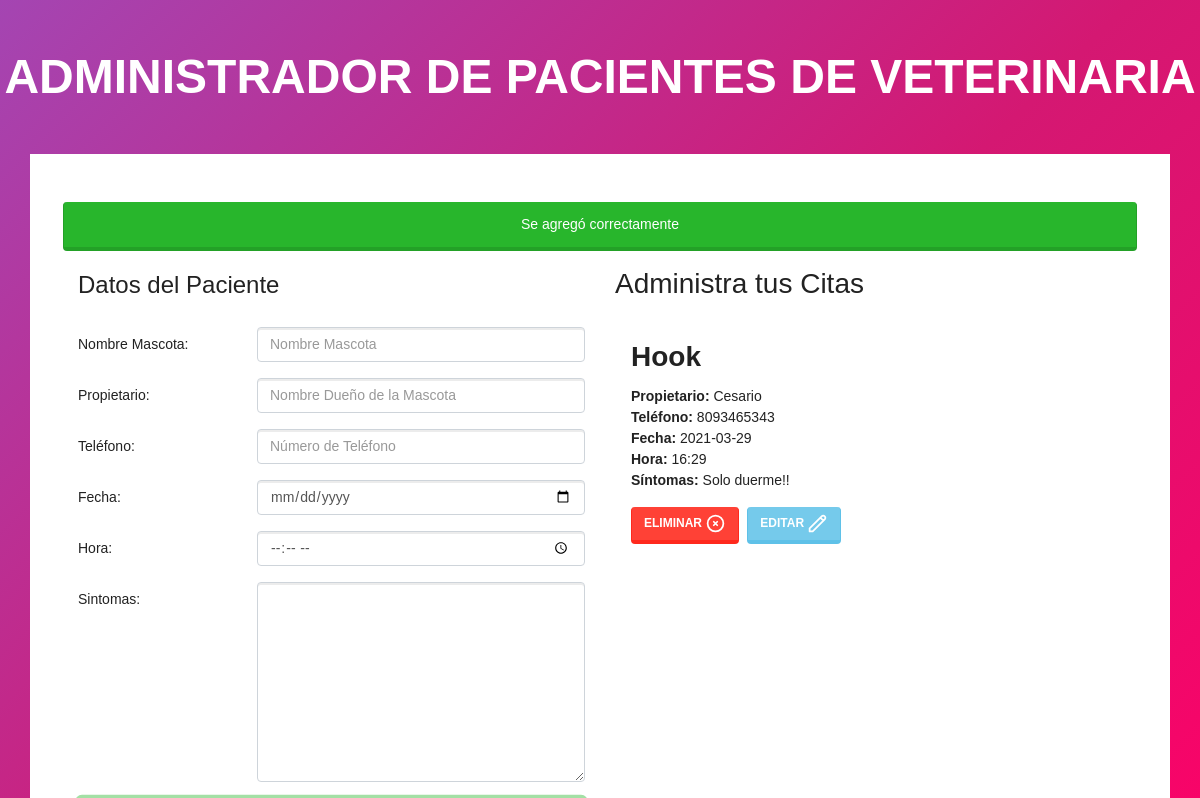
Test case: Llena los campos para una nueva cita y la edita › Edita la cita
This screenshot has width=1200, height=798.
Click the button with test id "btn-editar".
click(794, 526)  # box left=747, top=507, right=841, bottom=544
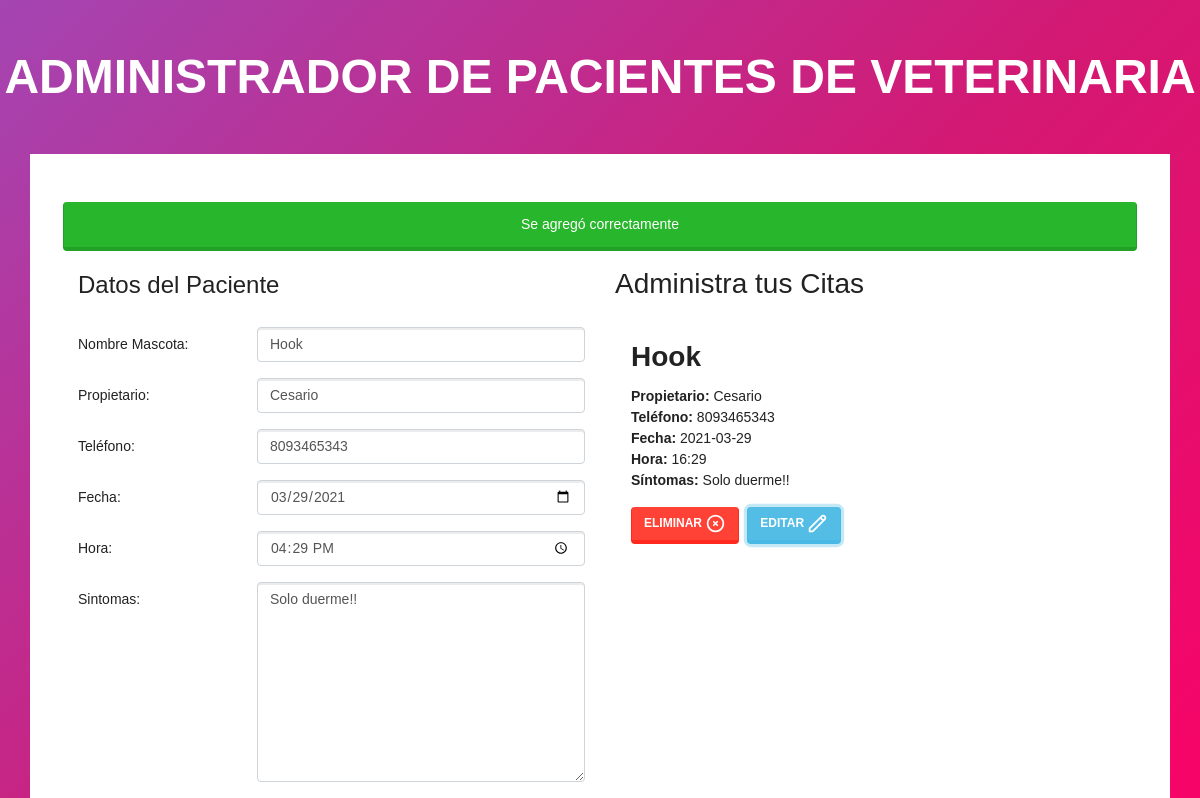
Replace the text in the field with test id "mascota-input" with "NUEVO HOOK" at (421, 345), box left=257, top=327, right=585, bottom=362
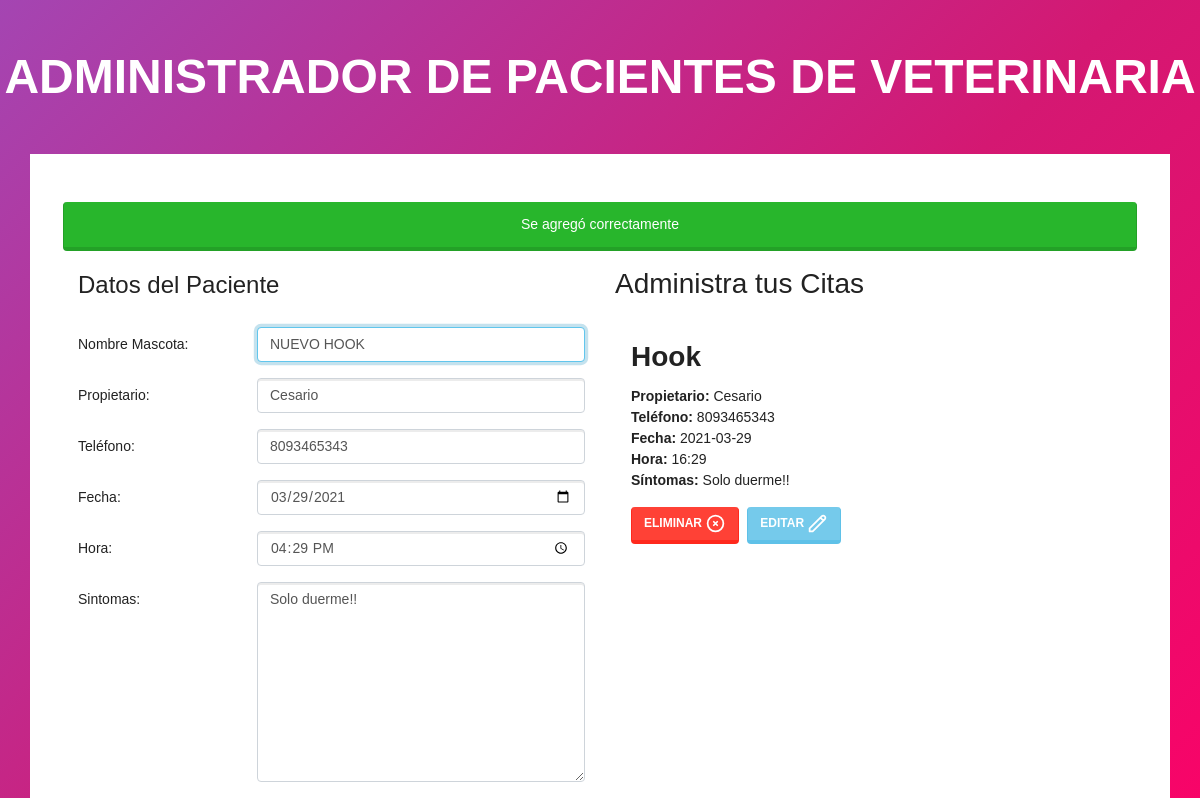
Scroll
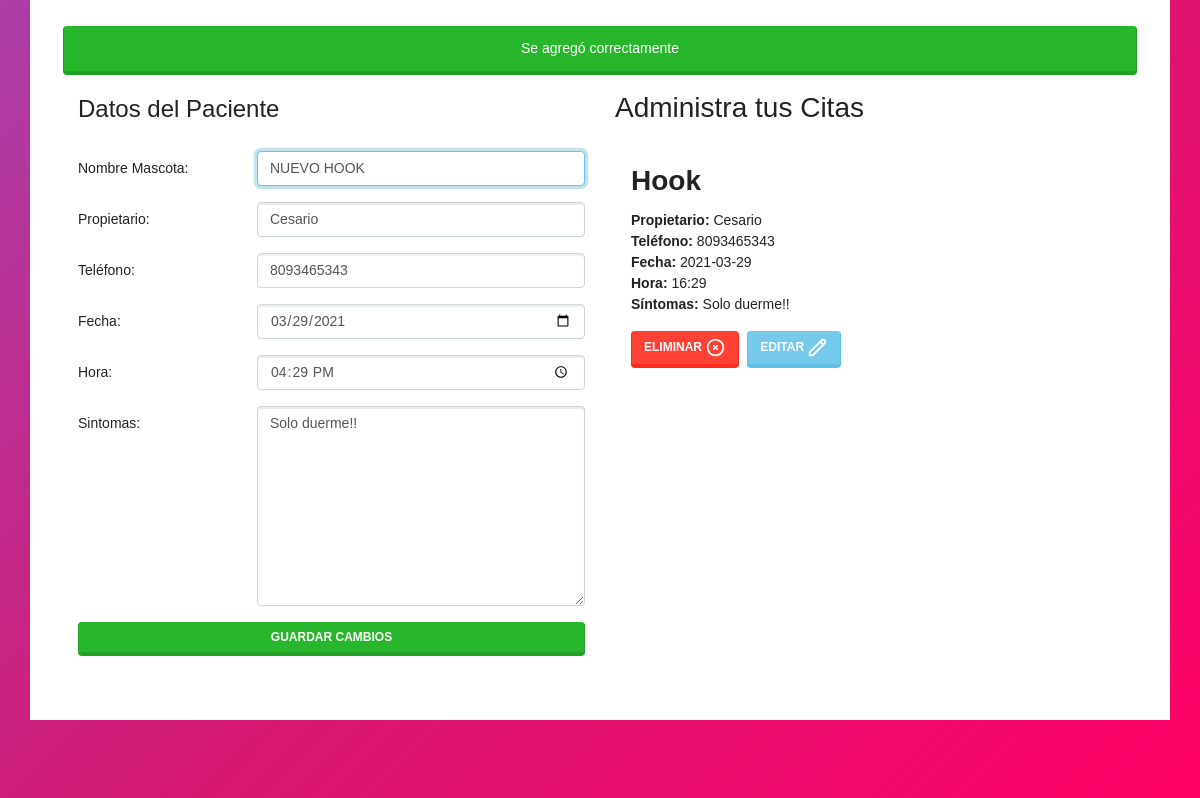
Click the button with test id "submit".
click(332, 639)  # box left=78, top=622, right=585, bottom=656
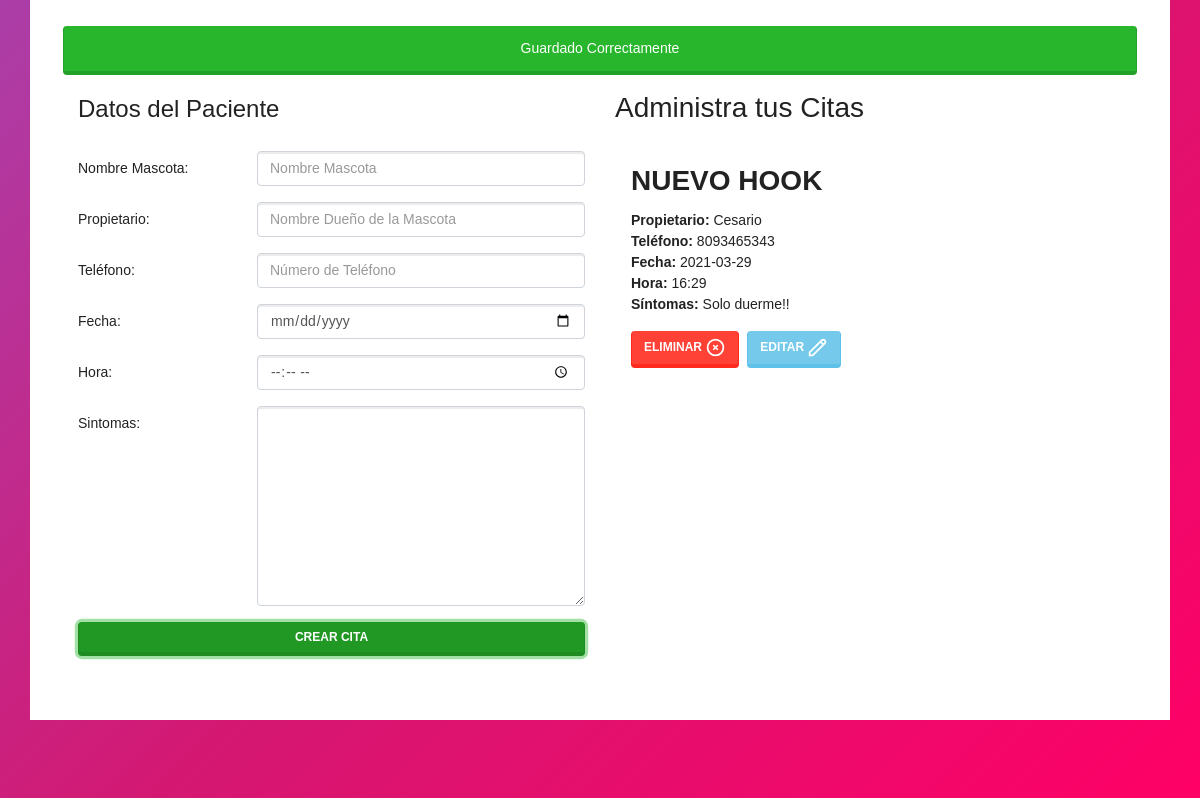
Now the text with test id "alerta" reads "Guardado Correctamente", box left=63, top=26, right=1137, bottom=75
